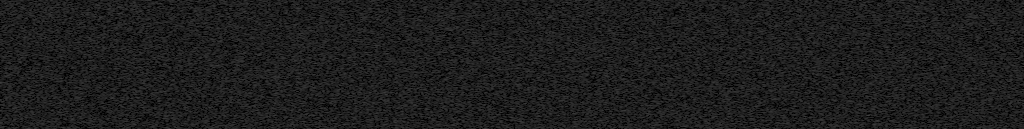wv_am: (22, 0, 28, 129), (682, 0, 687, 129)
wv_cw: (685, 0, 691, 118), (685, 121, 691, 129)
wv_lsb: (608, 63, 613, 106), (608, 46, 613, 62), (608, 115, 613, 122), (609, 107, 613, 114), (609, 3, 612, 12), (609, 37, 612, 45), (609, 13, 613, 17), (609, 31, 612, 36), (609, 18, 612, 21)
wv_usb: (74, 15, 80, 111), (76, 112, 79, 121), (76, 7, 79, 14), (75, 125, 79, 129)
wv_wbfm: (0, 0, 15, 129), (955, 0, 968, 129), (645, 0, 656, 129)
